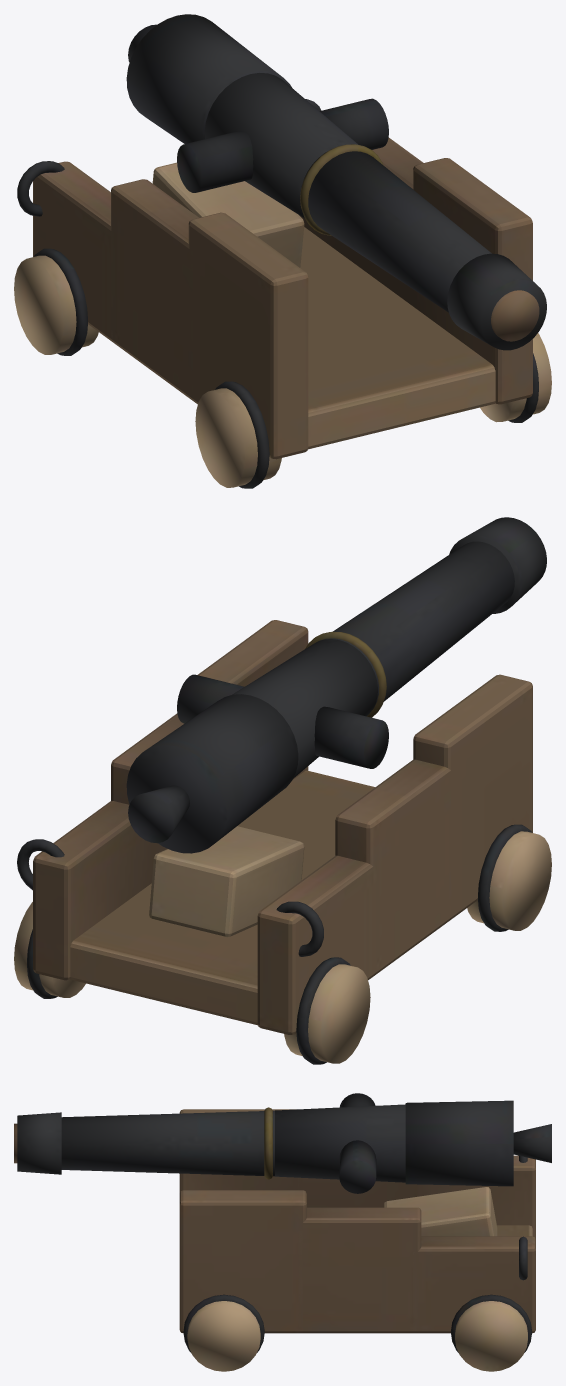
Rendered from cannon.044b0040.glb.
The picture shows the model from 3 angles, top to bottom: view 1: azimuth 30°, elevation 25°; view 2: azimuth 150°, elevation 25°; view 3: azimuth 270°, elevation 25°; orthographic projection. The views are drawn at different scales.
Parts seen in each view (by area): view 1: cannon_body, barrel; view 2: cannon_body, barrel; view 3: cannon_body, barrel.
Boxes of the visible parts, box(x1,y1,x2,y2) form: cannon_body: box(14, 99, 551, 488); barrel: box(126, 14, 546, 350); cannon_body: box(14, 620, 551, 1064); barrel: box(126, 517, 546, 853); cannon_body: box(179, 1109, 535, 1371); barrel: box(14, 1093, 551, 1193).
Size of the model in its own units: 0.82 by 0.748 by 1.69.
Materials: 1 (1 with a texture image).
